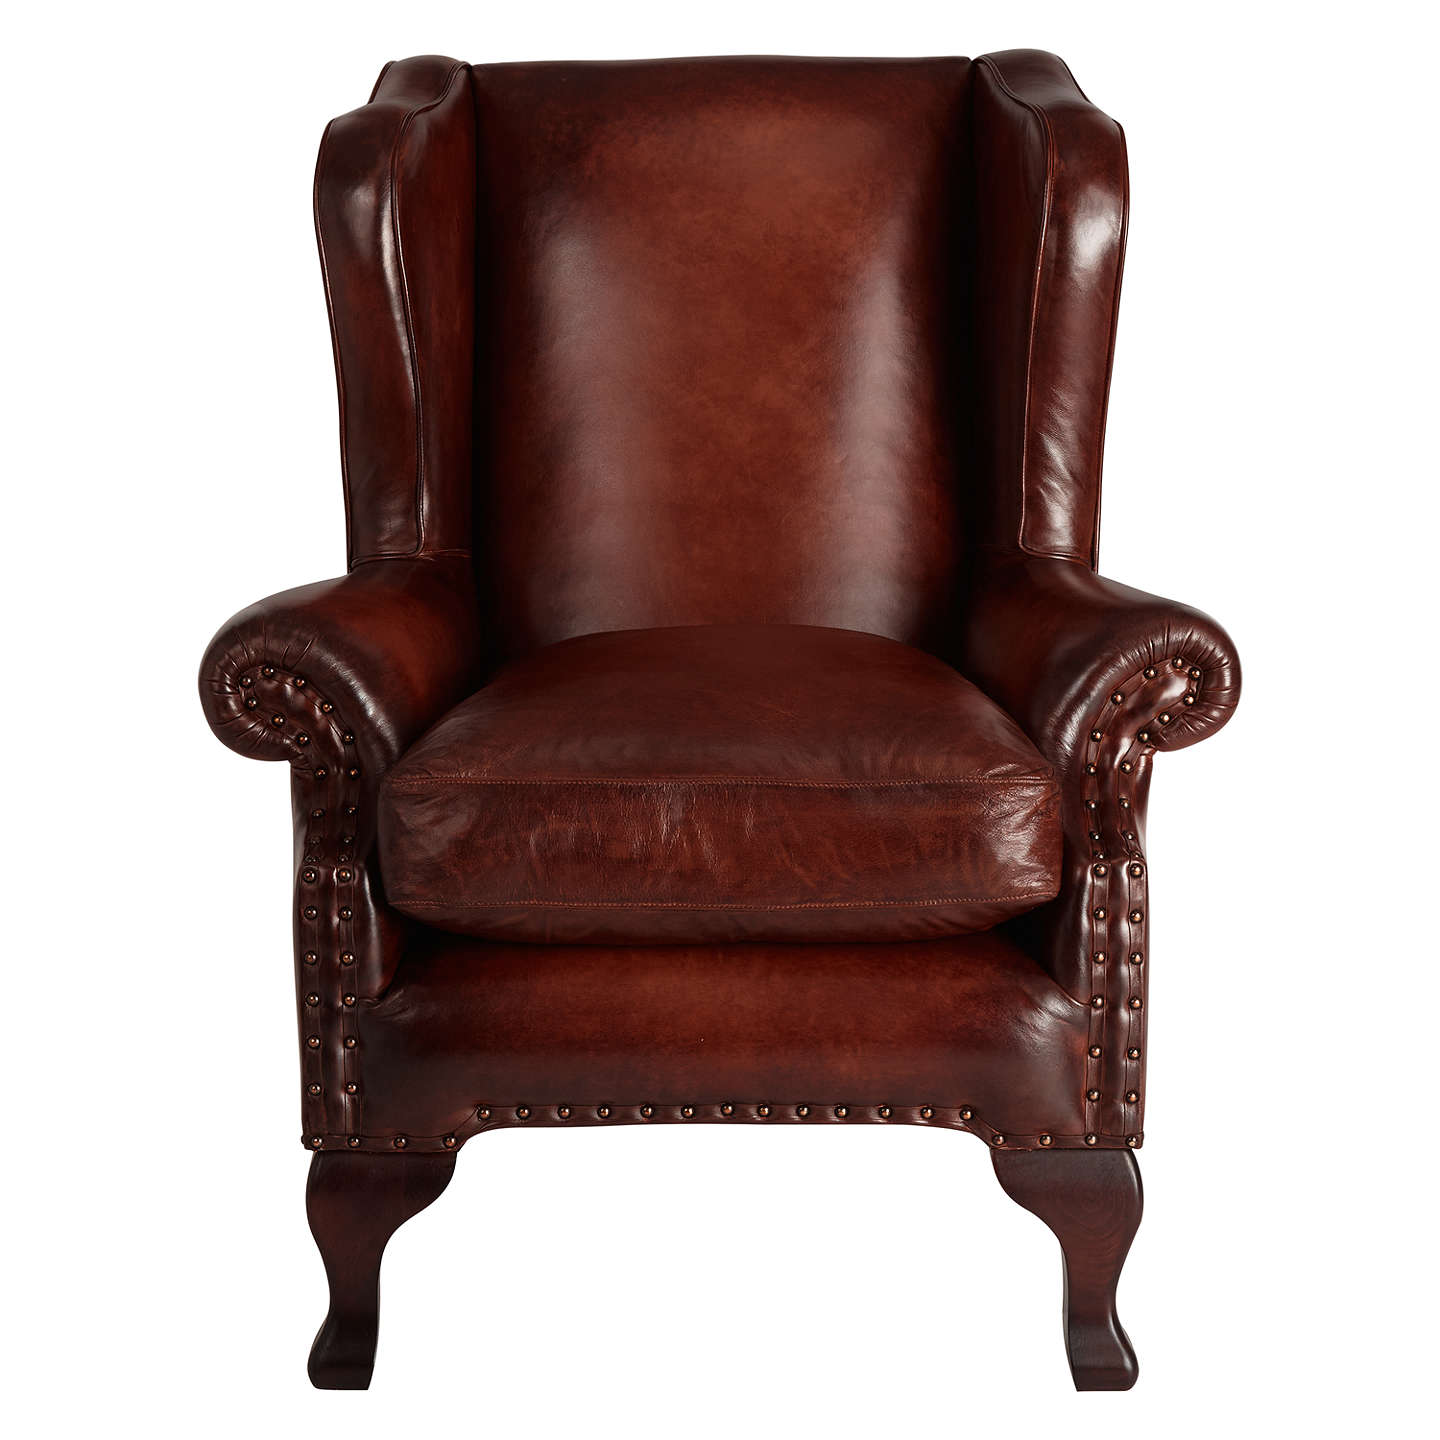chairs: (190, 36, 1247, 1418)
